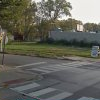crosswalk: (10, 82, 100, 100), (31, 62, 92, 73)
